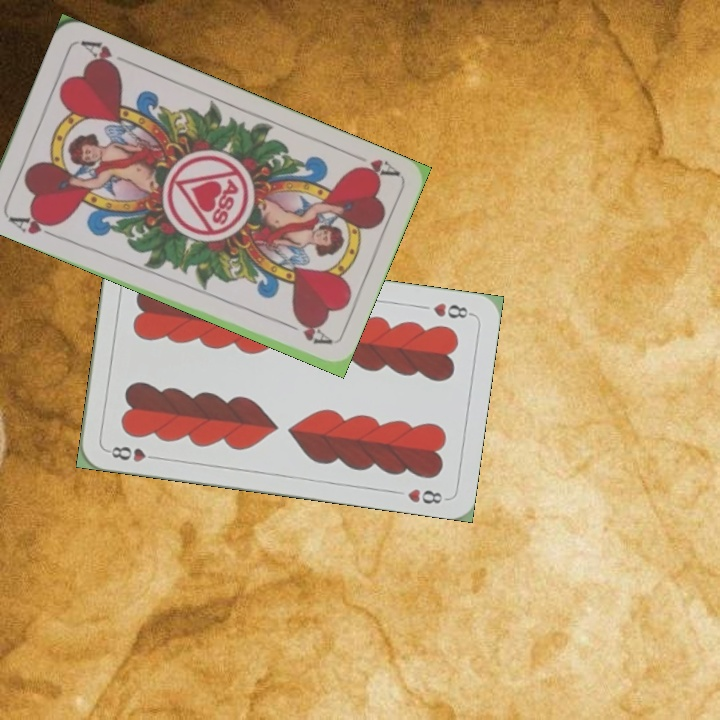H8: (103, 442, 162, 464), (429, 298, 475, 321)
HA: (344, 148, 401, 183), (4, 209, 62, 240)
